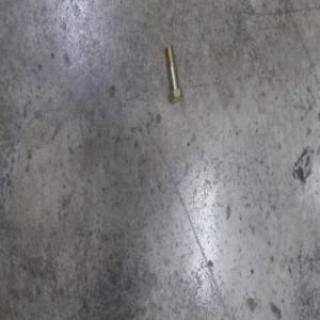Bolttrack_idkeyframe: (165, 42, 183, 102)
